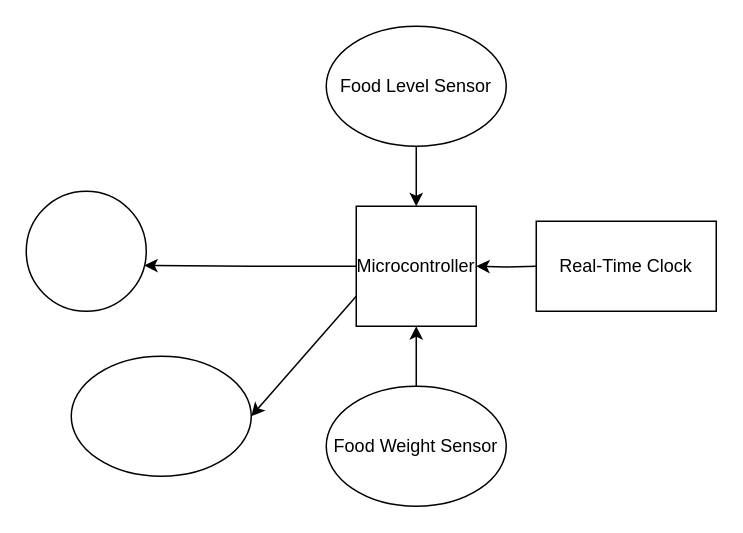
This 743x533 diagram has some shape labels left out. The shapes that lost their labels are listed below. From the top down, each one's centre as x and y in pixels, then its label:
At (85,250): "Buzzer".
At (160,415): "Servo Motor".
